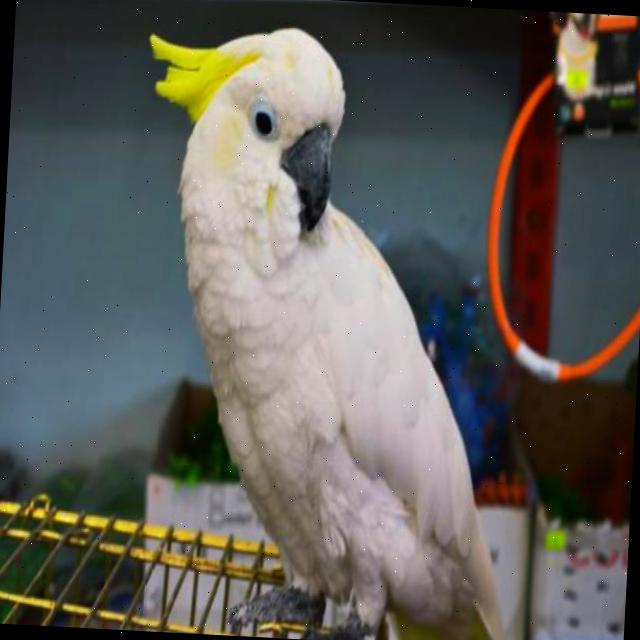Kakatua Putih: (113, 0, 582, 640)
